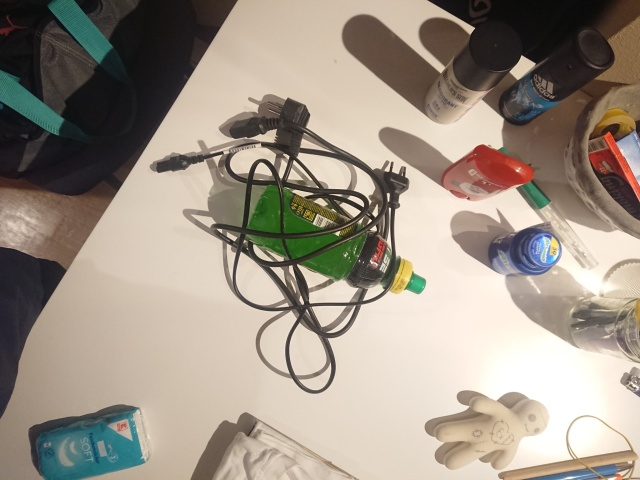Vindi Iso Sport Lemon-Grapefruit 500mL: (241, 182, 428, 296)
